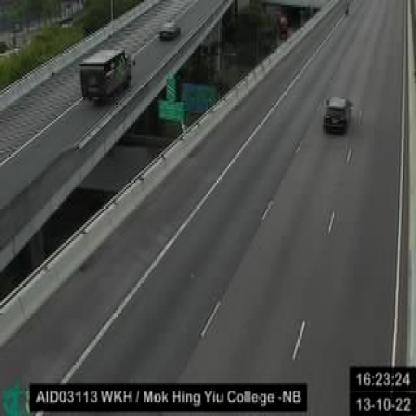Car: (324, 96, 352, 134), (158, 19, 182, 42)
Truck: (78, 47, 132, 105)
